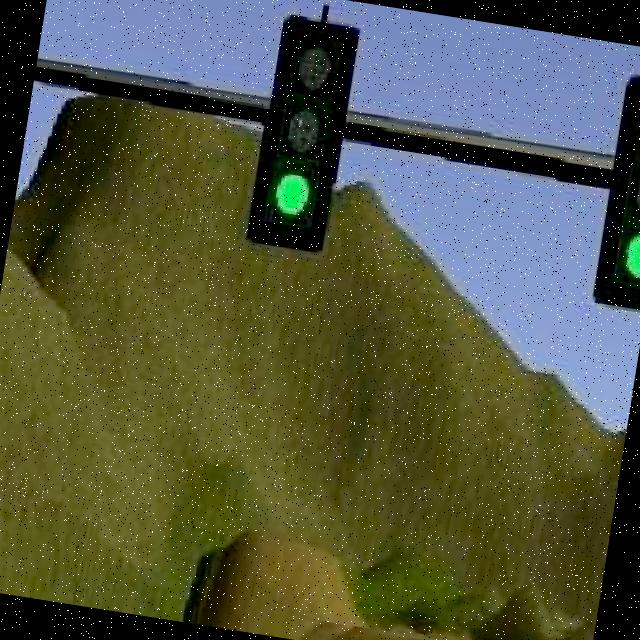Zielone swiatlo: (254, 21, 355, 254), (591, 71, 640, 314)
